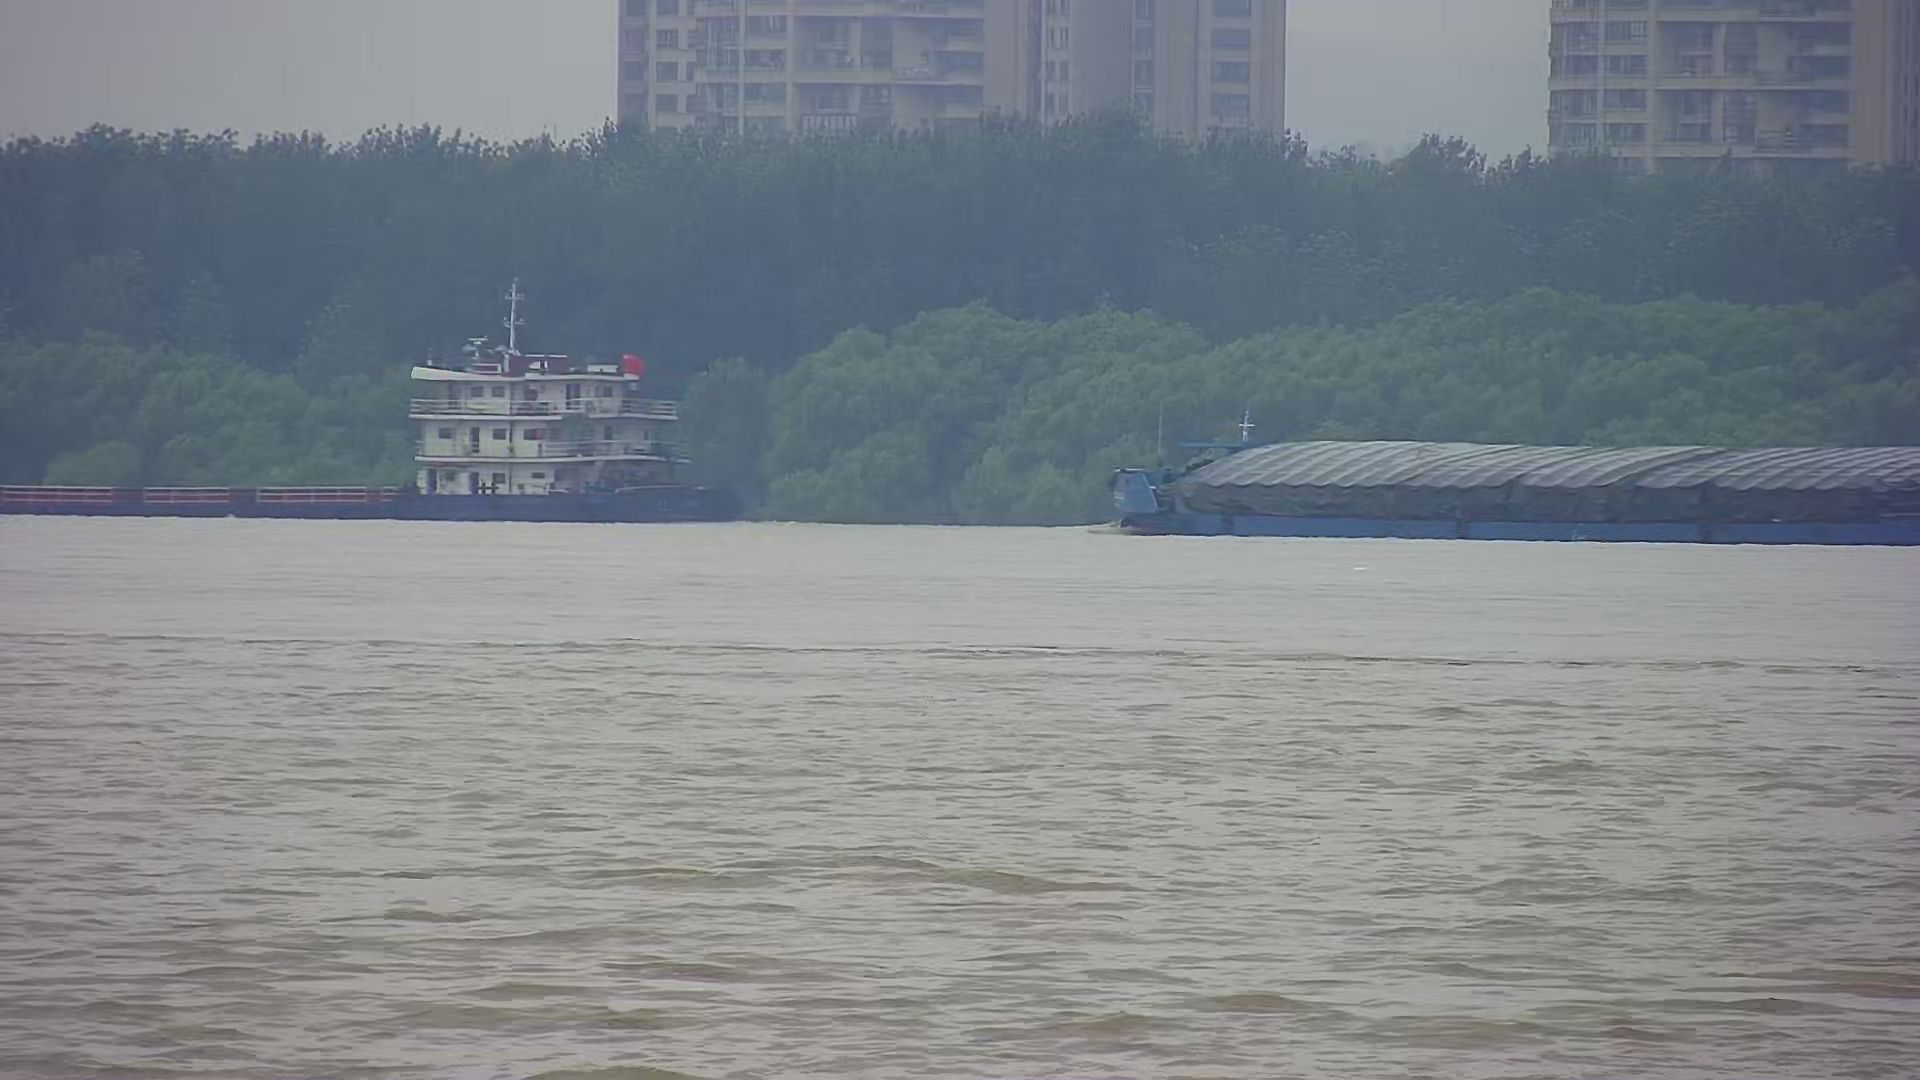ship: (1, 327, 758, 531), (1098, 400, 1920, 555)
